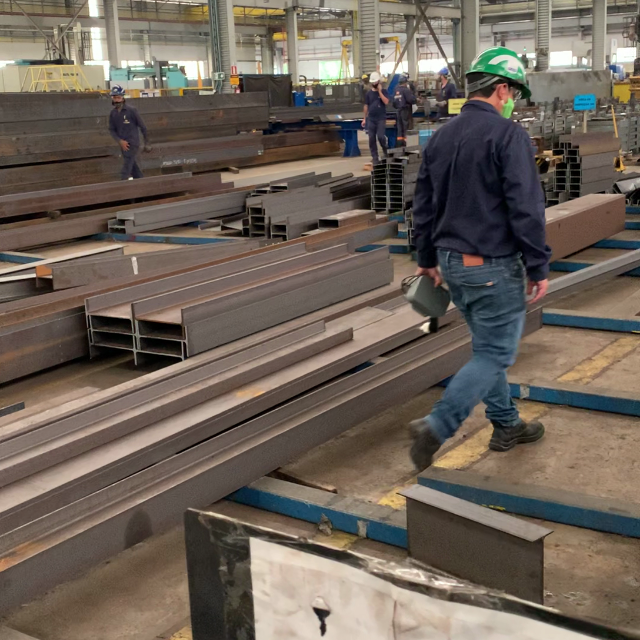helmet: (461, 47, 535, 97)
mask: (501, 97, 515, 117)
person: (404, 47, 554, 475)
safety-shoe: (407, 419, 438, 471), (494, 420, 543, 452)
